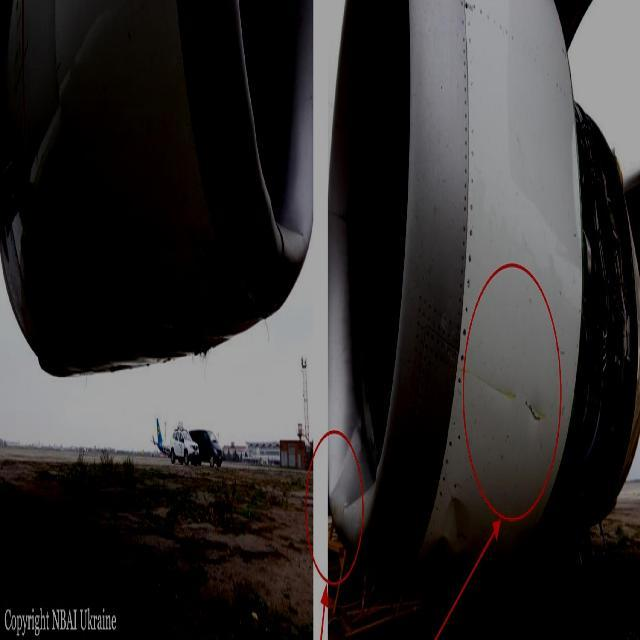crack: (522, 388, 546, 438)
dent: (437, 490, 479, 562)
